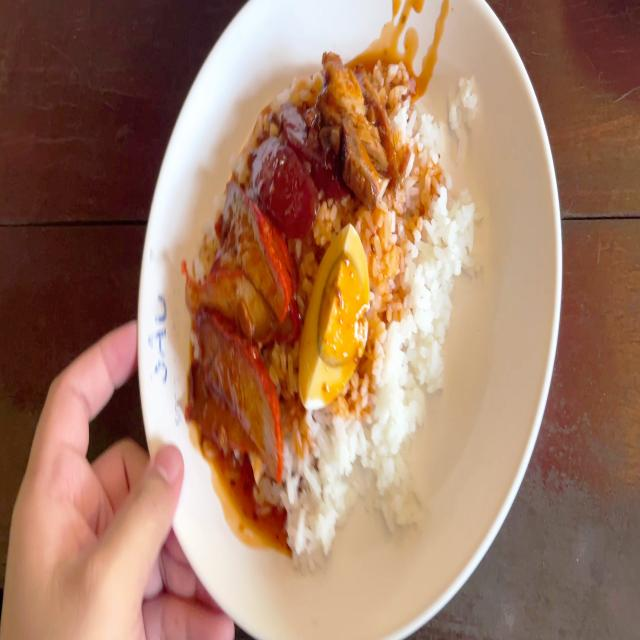boiled_egg: (299, 226, 367, 405)
chainese_sausage: (256, 106, 330, 226)
crispy_pork: (328, 54, 401, 194)
red_pork: (194, 192, 280, 484)
red_pork_and_crispy_pork: (192, 65, 462, 521)
rice: (366, 190, 451, 510), (282, 417, 369, 561)
